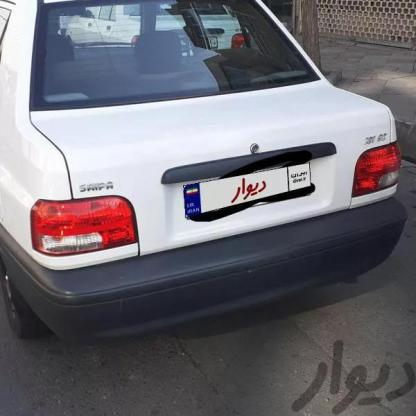Car: (0, 26, 395, 351), (0, 0, 256, 76)
